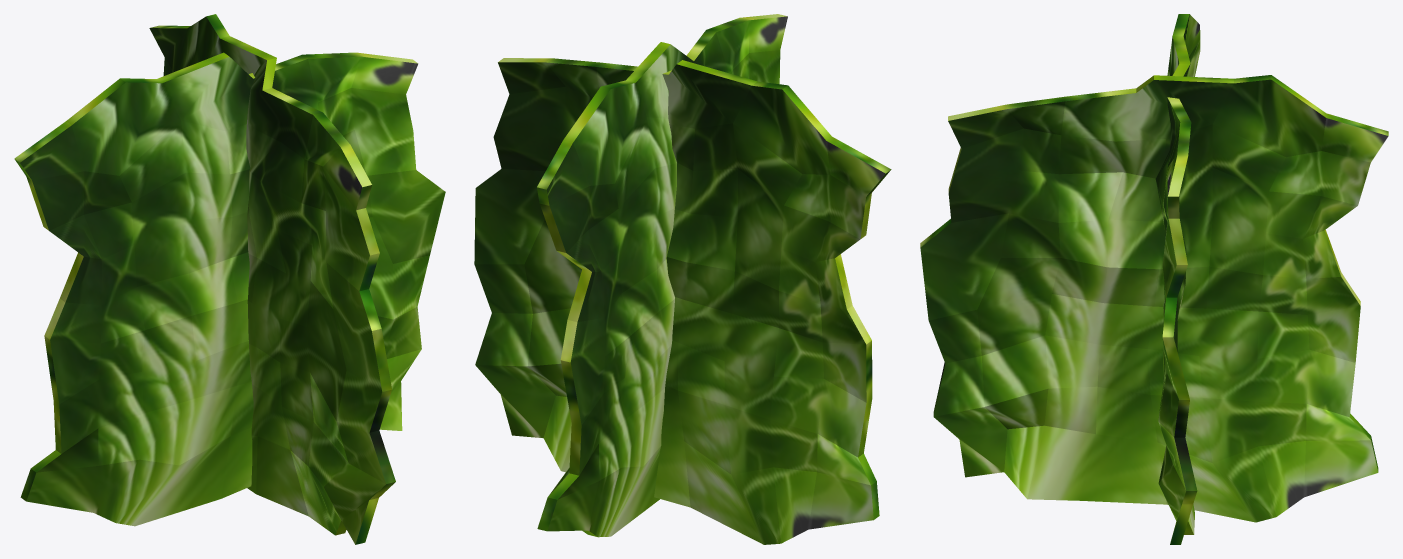
File: Lettuce Bush.fbx
The picture shows the model from 3 angles, left to right: view 1: azimuth 30°, elevation 25°; view 2: azimuth 150°, elevation 25°; view 3: azimuth 270°, elevation 25°; orthographic projection. The views are drawn at different scales.
Parts seen in each view (by area): view 1: Lettuce; view 2: Lettuce; view 3: Lettuce.
Part boxes in pixels (x1=…): Lettuce: x1=14, y1=14, x2=445, y2=544; Lettuce: x1=474, y1=14, x2=891, y2=544; Lettuce: x1=920, y1=14, x2=1388, y2=544.
Size of the model in its own units: 140 by 145 by 140.
1 material, 1 textured.
